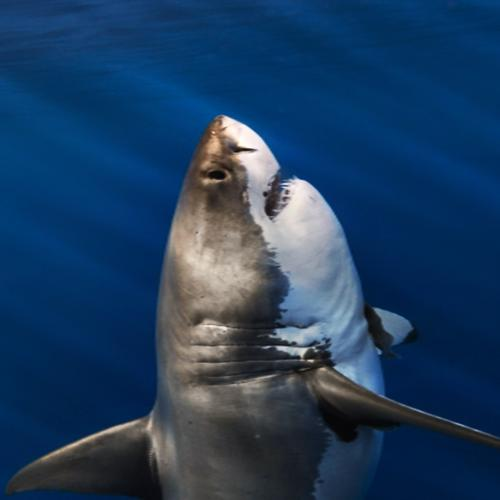shark-endangered: (125, 105, 414, 500)
